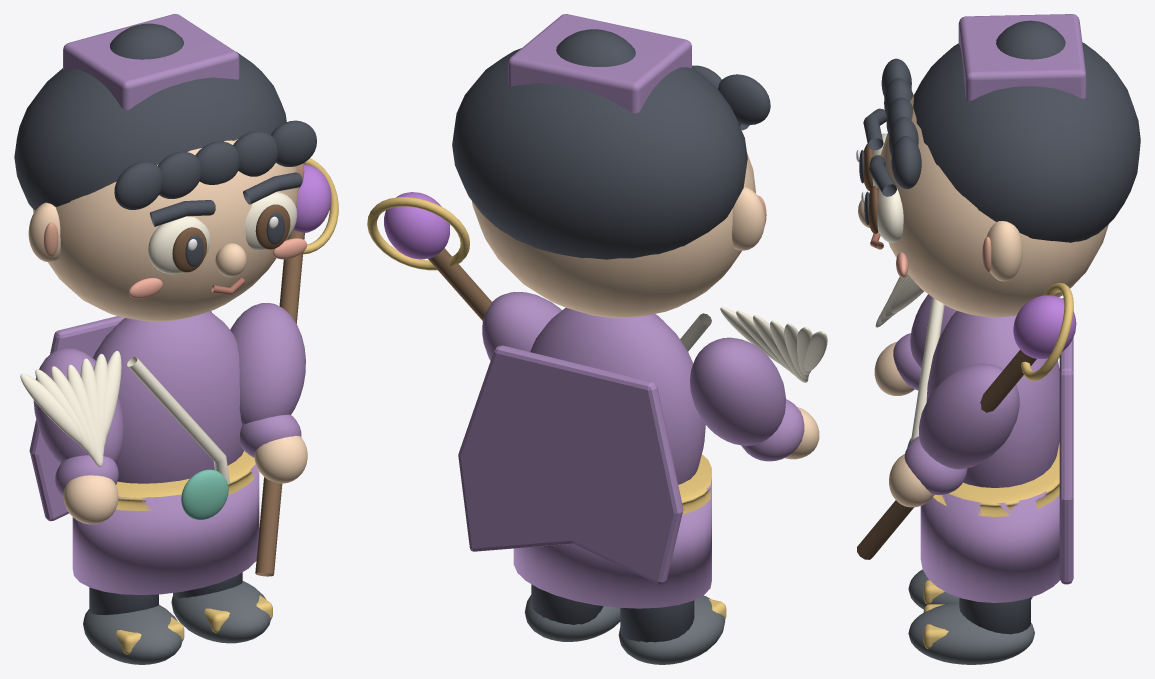
Rendered from xunyu.fbx.
The picture shows the model from 3 angles, left to right: view 1: azimuth 30°, elevation 25°; view 2: azimuth 150°, elevation 25°; view 3: azimuth 270°, elevation 25°; orthographic projection. The views are drawn at different scales.
Parts seen in each view (by area): view 1: hair_mass, face, body, robe_skirt, scholar_crown, sleeve, boot, boot.001, cape, spell_staff, sleeve.001, belt (+35 smaller); view 2: hair_mass, cape, face, body, robe_skirt, scholar_crown, sleeve.001, sleeve, boot, spell_gem, leg, staff_ring (+9 smaller); view 3: hair_mass, face, robe_skirt, body, scholar_crown, sleeve, boot.001, cape, spell_gem, belt, spell_staff, hair_bun (+20 smaller).
Boxes of the visible parts, x1,y1,x2,y2 form: hair_mass: [14, 52, 286, 210]; face: [33, 139, 298, 321]; body: [93, 311, 243, 483]; robe_skirt: [72, 464, 259, 594]; scholar_crown: [63, 14, 239, 109]; sleeve: [230, 303, 305, 424]; boot: [83, 604, 182, 664]; boot.001: [171, 581, 270, 643]; cape: [29, 311, 211, 521]; spell_staff: [255, 230, 304, 576]; sleeve.001: [33, 348, 124, 463]; belt: [116, 450, 258, 510]; hair_mass: [452, 48, 747, 259]; cape: [458, 345, 683, 584]; face: [472, 153, 755, 317]; body: [530, 308, 705, 484]; robe_skirt: [513, 478, 711, 608]; scholar_crown: [508, 14, 691, 113]; sleeve.001: [690, 337, 785, 445]; sleeve: [482, 292, 561, 360]; boot: [618, 595, 725, 664]; spell_gem: [384, 192, 449, 259]; leg: [620, 600, 694, 642]; staff_ring: [367, 197, 469, 270]; hair_mass: [913, 42, 1140, 242]; face: [877, 93, 1108, 317]; robe_skirt: [920, 491, 1059, 602]; body: [926, 311, 1059, 487]; scholar_crown: [958, 14, 1086, 101]; sleeve: [919, 363, 1019, 469]; boot.001: [908, 602, 1034, 664]; cape: [1059, 298, 1073, 584]; spell_gem: [1013, 295, 1076, 358]; belt: [933, 442, 1059, 516]; spell_staff: [857, 349, 1036, 559]; hair_bun: [996, 20, 1065, 59].
Size of the model in its own units: 1.6 by 2.44 by 1.03.
